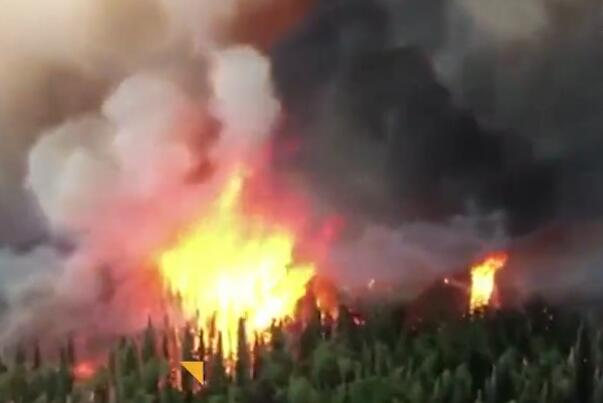fire: (157, 166, 322, 354), (465, 251, 511, 314)
yanwu: (1, 1, 601, 319)
